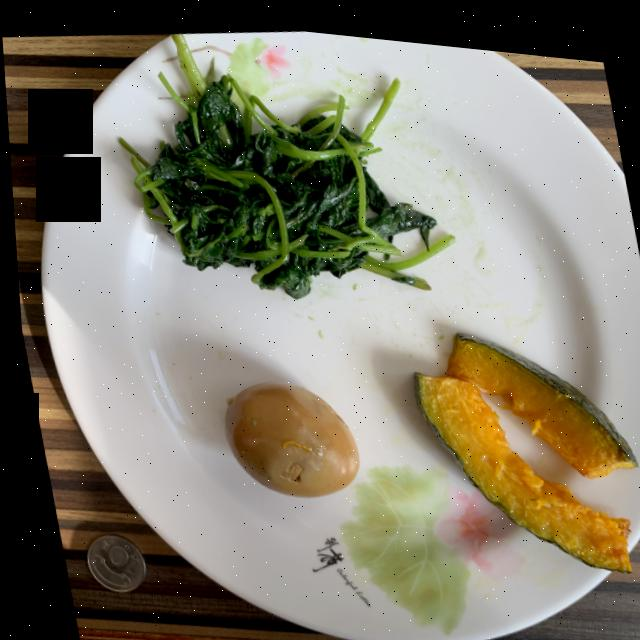coin: (78, 533, 137, 589)
pumpkin: (411, 324, 630, 558)
soy egg: (218, 375, 352, 492)
sweet potato leaves: (116, 29, 451, 292)
